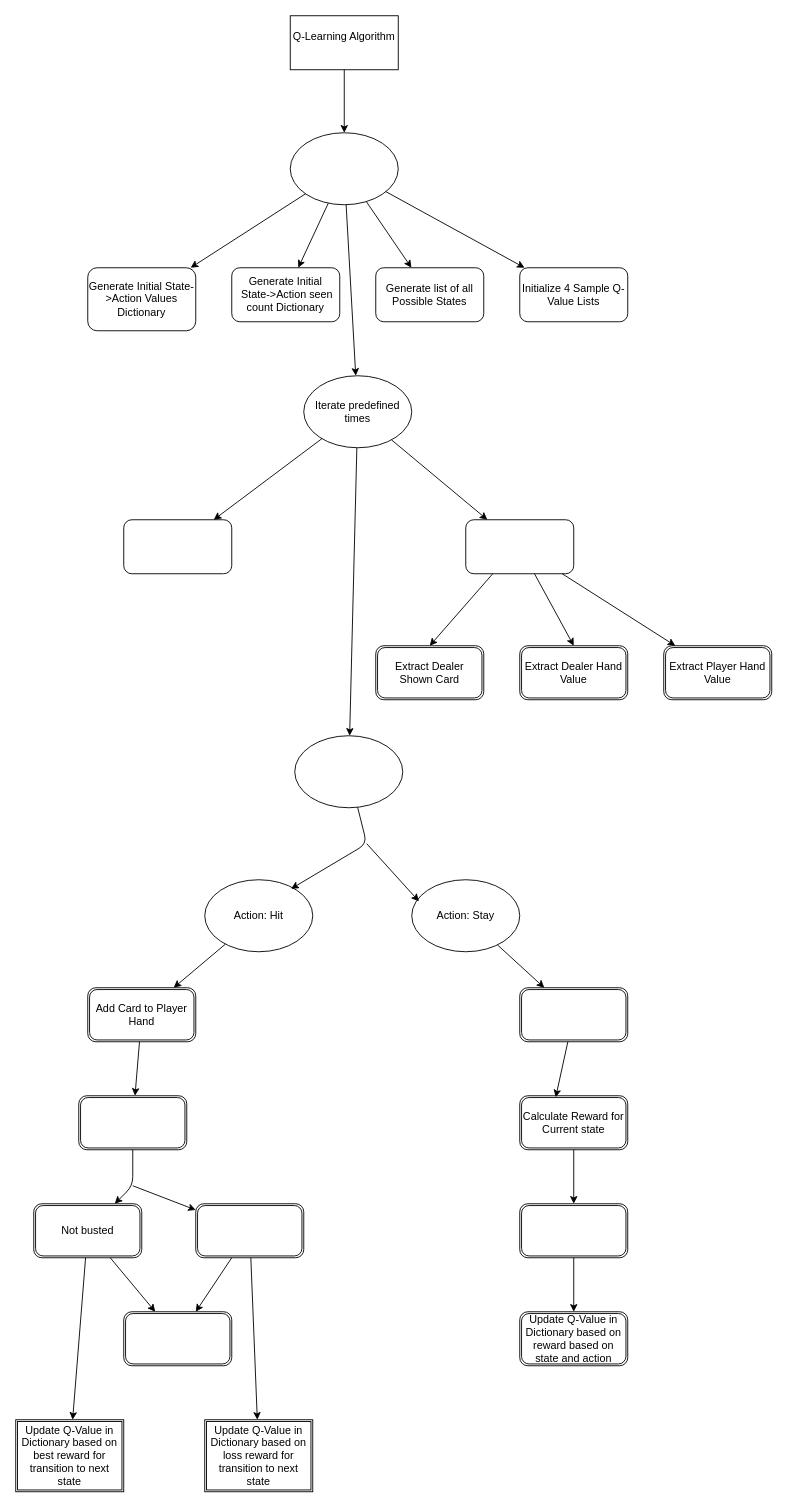
This 788x1508 diagram has some shape labels left out. Each missing label, with the centre of its shape:
Add Card to dealer's hand until fixed policy of 17 hand value is met.: the point at 573,1014
Busted: the point at 249,1230
Check if Player busted: the point at 132,1122
Epsilon-greedy Policy for Action: the point at 348,771
Increase seen count for State-Action Mapping by 1: the point at 177,1338
Increase sen count for State-Action Mapping by 1: the point at 573,1230
Initialize Values: the point at 343,168
Pick a random state: the point at 177,546
State E xtractions: the point at 519,546
